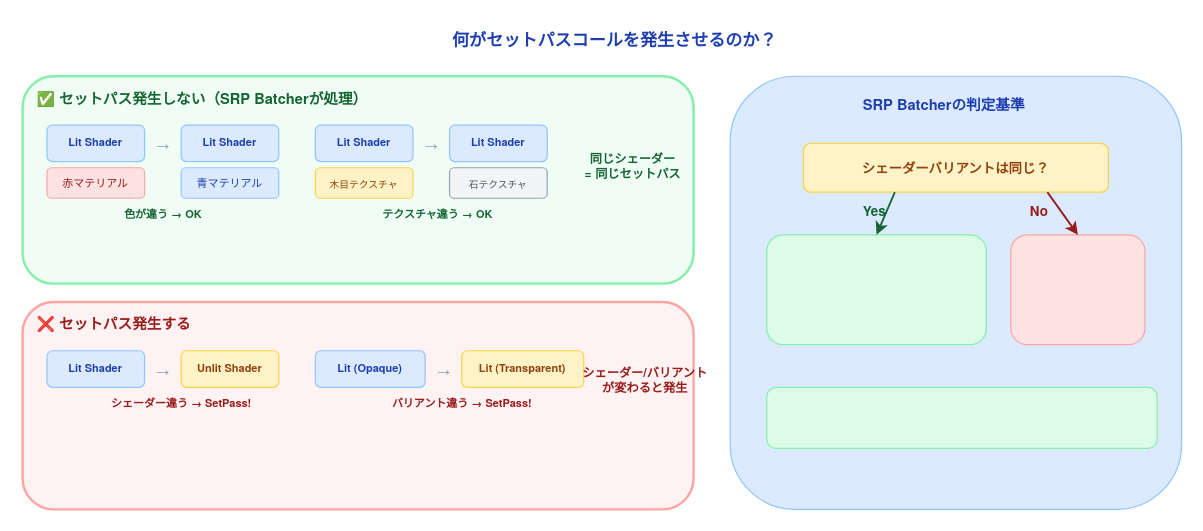
Image size: 1203x531. Some labels were removed from this diagram. The shapes that lost their labels are listed below. From the top down, each one's centre as x and y in pixels, then its label:
(876,289): CBufferのポインタ切り替え だけで描画実行 → セットパス不要 → 高速
(1077,289): シェーダー 再設定 → SetPass → 低速
(961,417): マテリアルの色・テクスチャ・数値の違いは セットパスコールに影響しない
